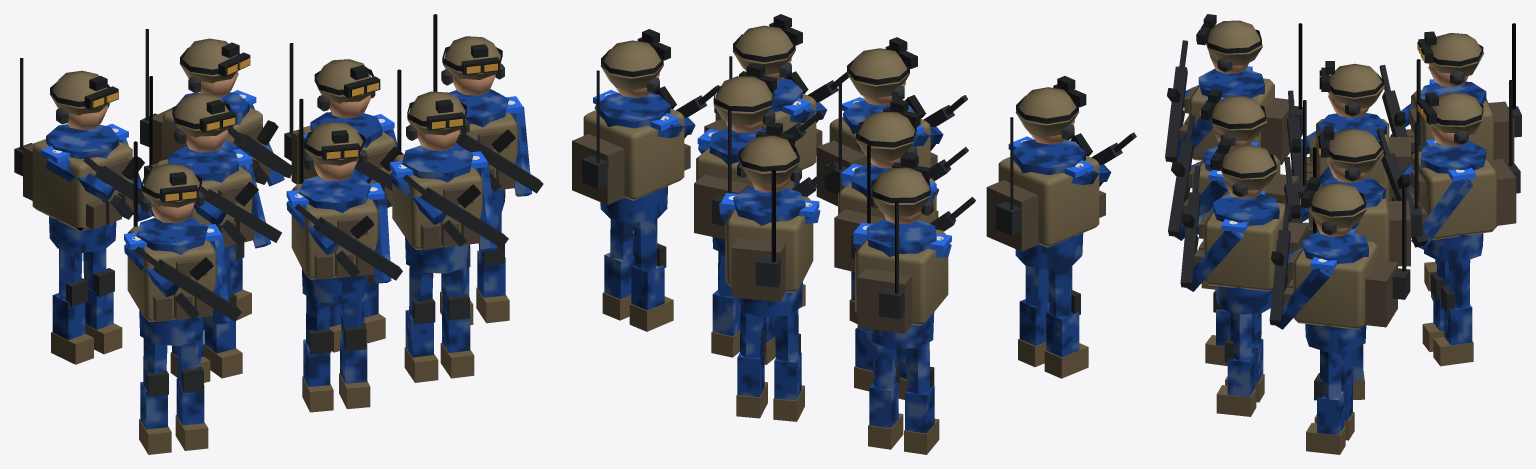
Rendered from squad_dl7_blue.glb.
The picture shows the model from 3 angles, left to right: view 1: azimuth 30°, elevation 25°; view 2: azimuth 150°, elevation 25°; view 3: azimuth 270°, elevation 25°; orthographic projection. The views are drawn at different scales.
Visible parts, largest first — view 1: squad_dl7_blue; view 2: squad_dl7_blue; view 3: squad_dl7_blue.
Part boxes in pixels (bbox=[...]): squad_dl7_blue: bbox=[14, 14, 543, 454]; squad_dl7_blue: bbox=[572, 14, 1136, 454]; squad_dl7_blue: bbox=[1165, 14, 1521, 454].
Size of the model in its own units: 0.6718 by 0.3857 by 0.4816.
1 material, 1 textured.
